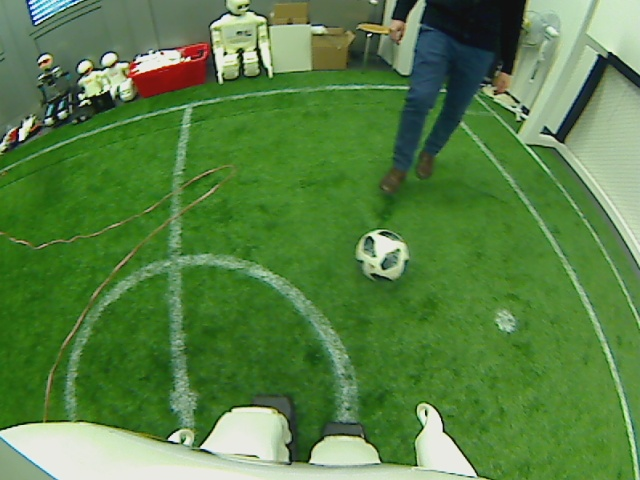ball: (354, 228, 410, 281)
